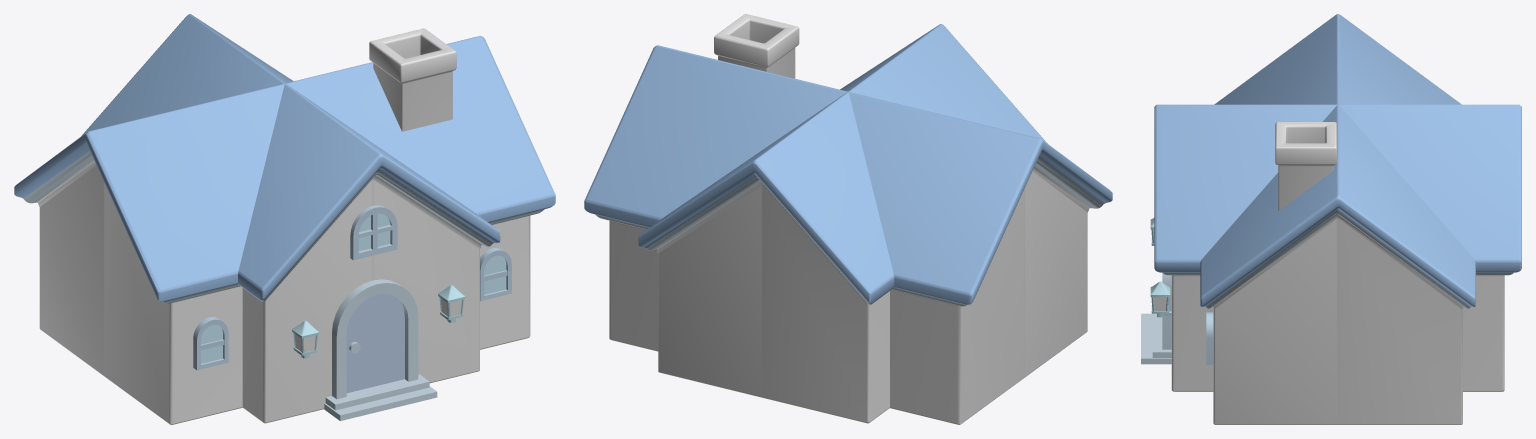
Rendered from House04.glb.
The picture shows the model from 3 angles, left to right: view 1: azimuth 30°, elevation 25°; view 2: azimuth 150°, elevation 25°; view 3: azimuth 270°, elevation 25°; orthographic projection. The views are drawn at different scales.
Visible parts, largest first — view 1: House, Door, SmokePipe, Window, Lamp; view 2: House, SmokePipe; view 3: House, SmokePipe, Door, Lamp, Window.
Boxes of the visible parts, <box> form: House: <box>14,14,555,424</box>; Door: <box>324,279,437,420</box>; SmokePipe: <box>369,28,456,131</box>; Window: <box>193,205,511,370</box>; Lamp: <box>292,285,465,358</box>; House: <box>584,24,1112,424</box>; SmokePipe: <box>714,14,799,78</box>; House: <box>1154,14,1521,424</box>; SmokePipe: <box>1275,122,1336,210</box>; Door: <box>1141,273,1171,364</box>; Lamp: <box>1150,218,1171,317</box>; Window: <box>1206,312,1213,364</box>.
Size of the model in its own units: 1.36 by 0.8937 by 1.19.
